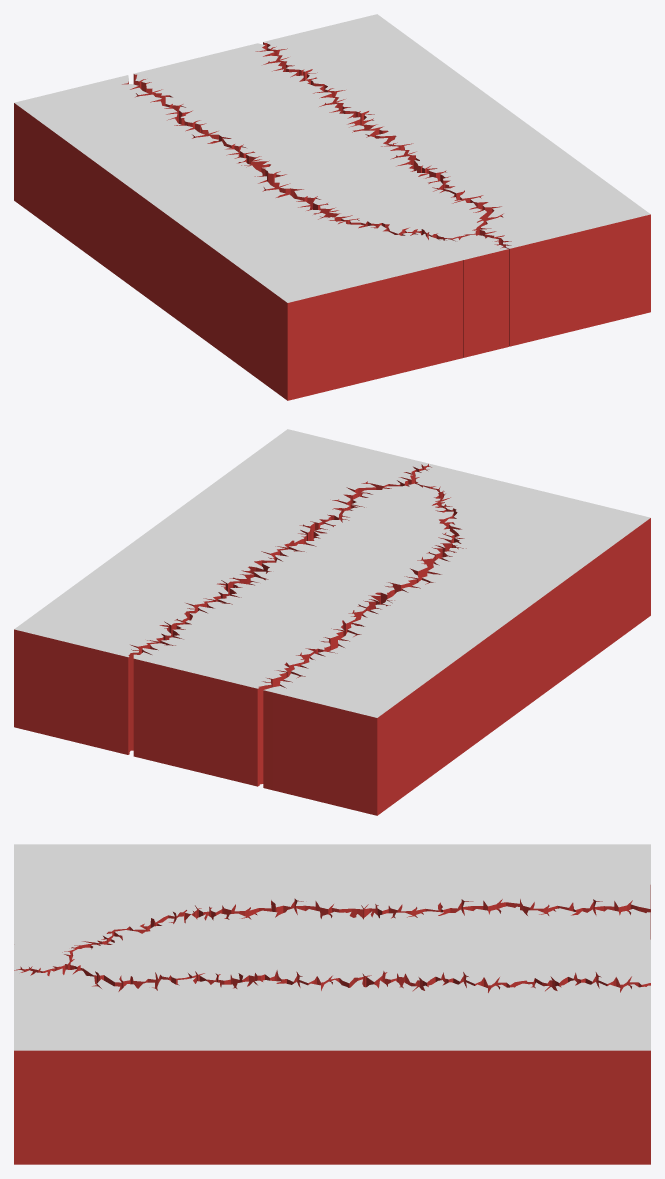
Rendered from untitlesddssdd 9.fbx.
3 views of the same model, one above another, from view 1: azimuth 30°, elevation 25°; view 2: azimuth 150°, elevation 25°; view 3: azimuth 270°, elevation 25° (orthographic). The views are drawn at different scales.
Visible parts, largest first — view 1: Plane.009, Plane.010, Plane.008; view 2: Plane.009, Plane.010, Plane.008; view 3: Plane.010, Plane.009, Plane.008.
Part boxes in pixels (box(x1,y1,x2,y2)): Plane.009: box(14, 75, 463, 400); Plane.010: box(263, 14, 650, 346); Plane.008: box(133, 43, 508, 357); Plane.009: box(263, 475, 650, 815); Plane.010: box(14, 429, 428, 754); Plane.008: box(133, 463, 474, 786); Plane.010: box(14, 968, 650, 1164); Plane.009: box(14, 844, 650, 969); Plane.008: box(14, 906, 650, 992).
Size of the model in its own units: 8263 by 2127 by 10781.
